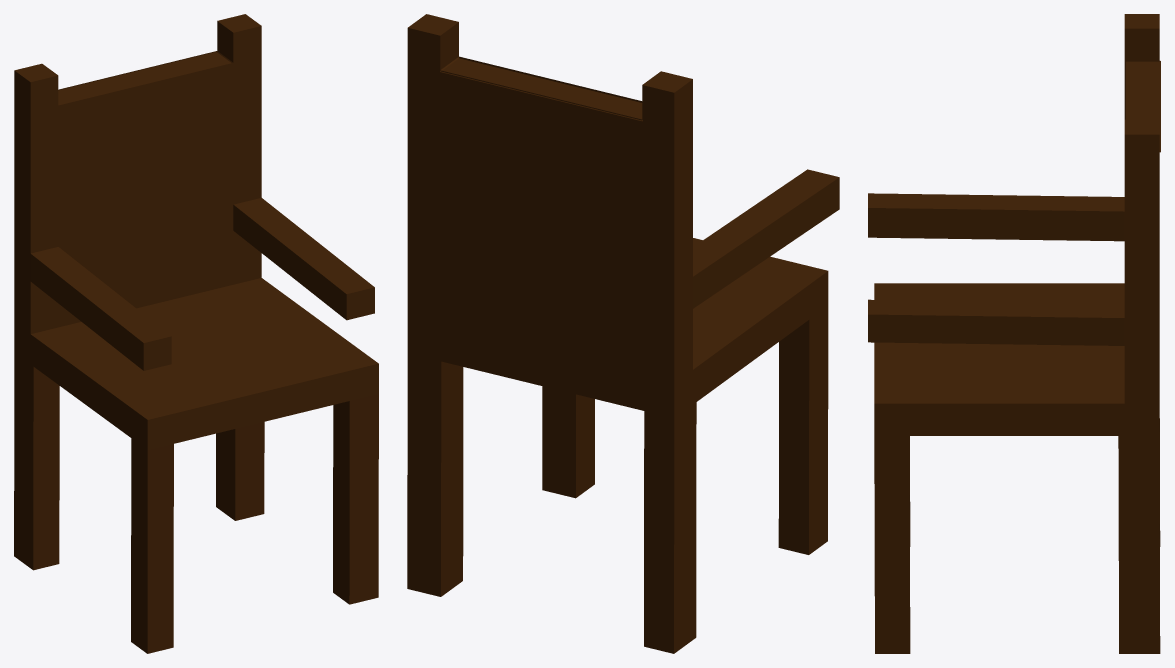
File: cadeira.fbx
The picture shows the model from 3 angles, left to right: view 1: azimuth 30°, elevation 25°; view 2: azimuth 150°, elevation 25°; view 3: azimuth 270°, elevation 25°; orthographic projection. The views are drawn at different scales.
Parts seen in each view (by area): view 1: Cube.019; view 2: Cube.019; view 3: Cube.019.
Boxes of the visible parts, x1,y1,x2,y2 form: Cube.019: (14,14,378,653); Cube.019: (407,14,839,653); Cube.019: (868,14,1160,653).
Size of the model in its own units: 0.15 by 0.2927 by 0.1495.
